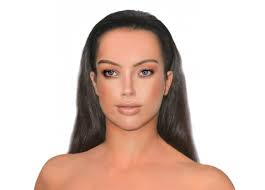face: (96, 58, 175, 134)
